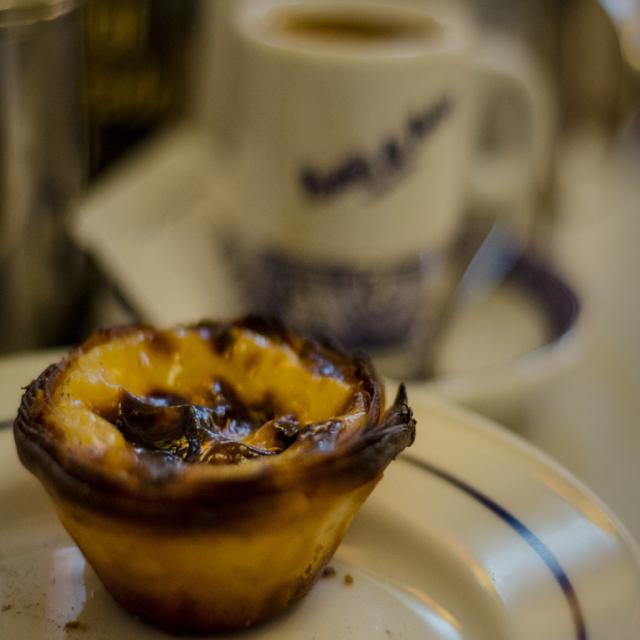Coffee: (280, 6, 448, 53)
